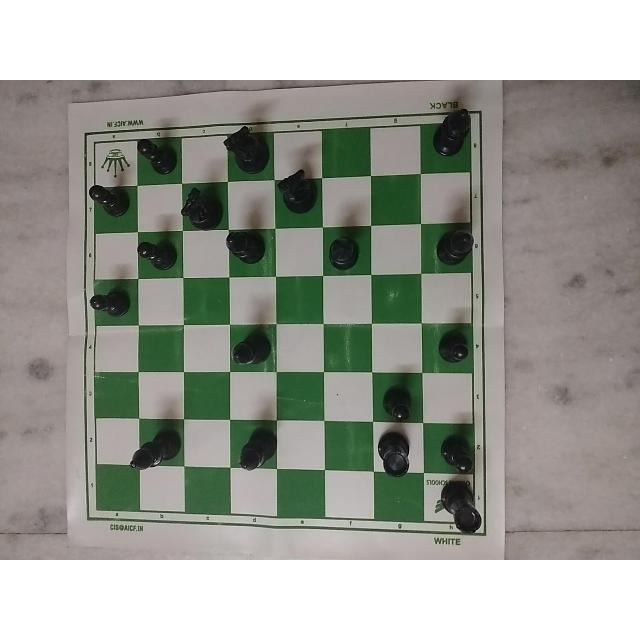black-bishop: (128, 428, 180, 480), (432, 101, 472, 165), (235, 423, 279, 481), (319, 229, 370, 273), (225, 329, 275, 369), (431, 228, 479, 268), (224, 226, 272, 264)
black-knight: (221, 122, 270, 174), (177, 184, 229, 228), (278, 167, 321, 220)
black-pawn: (431, 321, 481, 371), (133, 229, 179, 277), (81, 181, 131, 223), (377, 380, 421, 424), (85, 282, 133, 321), (135, 134, 177, 178), (439, 433, 477, 475)
black-rook: (433, 474, 491, 538), (374, 429, 413, 478)
